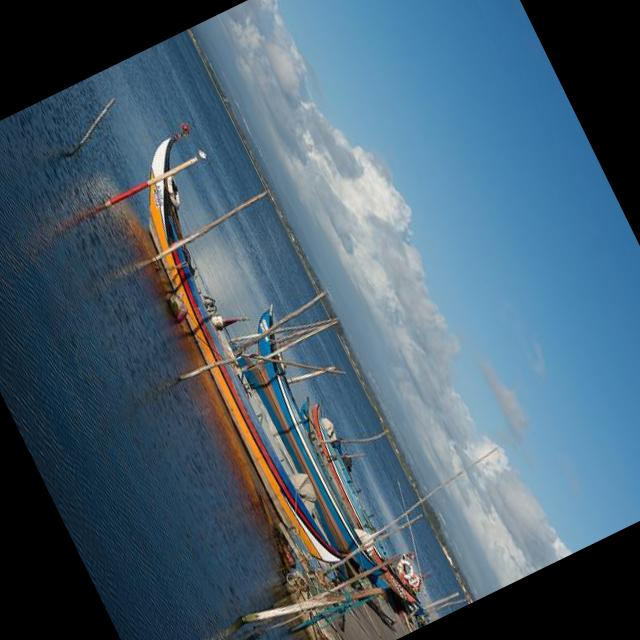boat: (102, 123, 386, 585), (229, 309, 401, 598), (289, 388, 419, 614), (304, 404, 376, 527), (317, 416, 344, 454)
